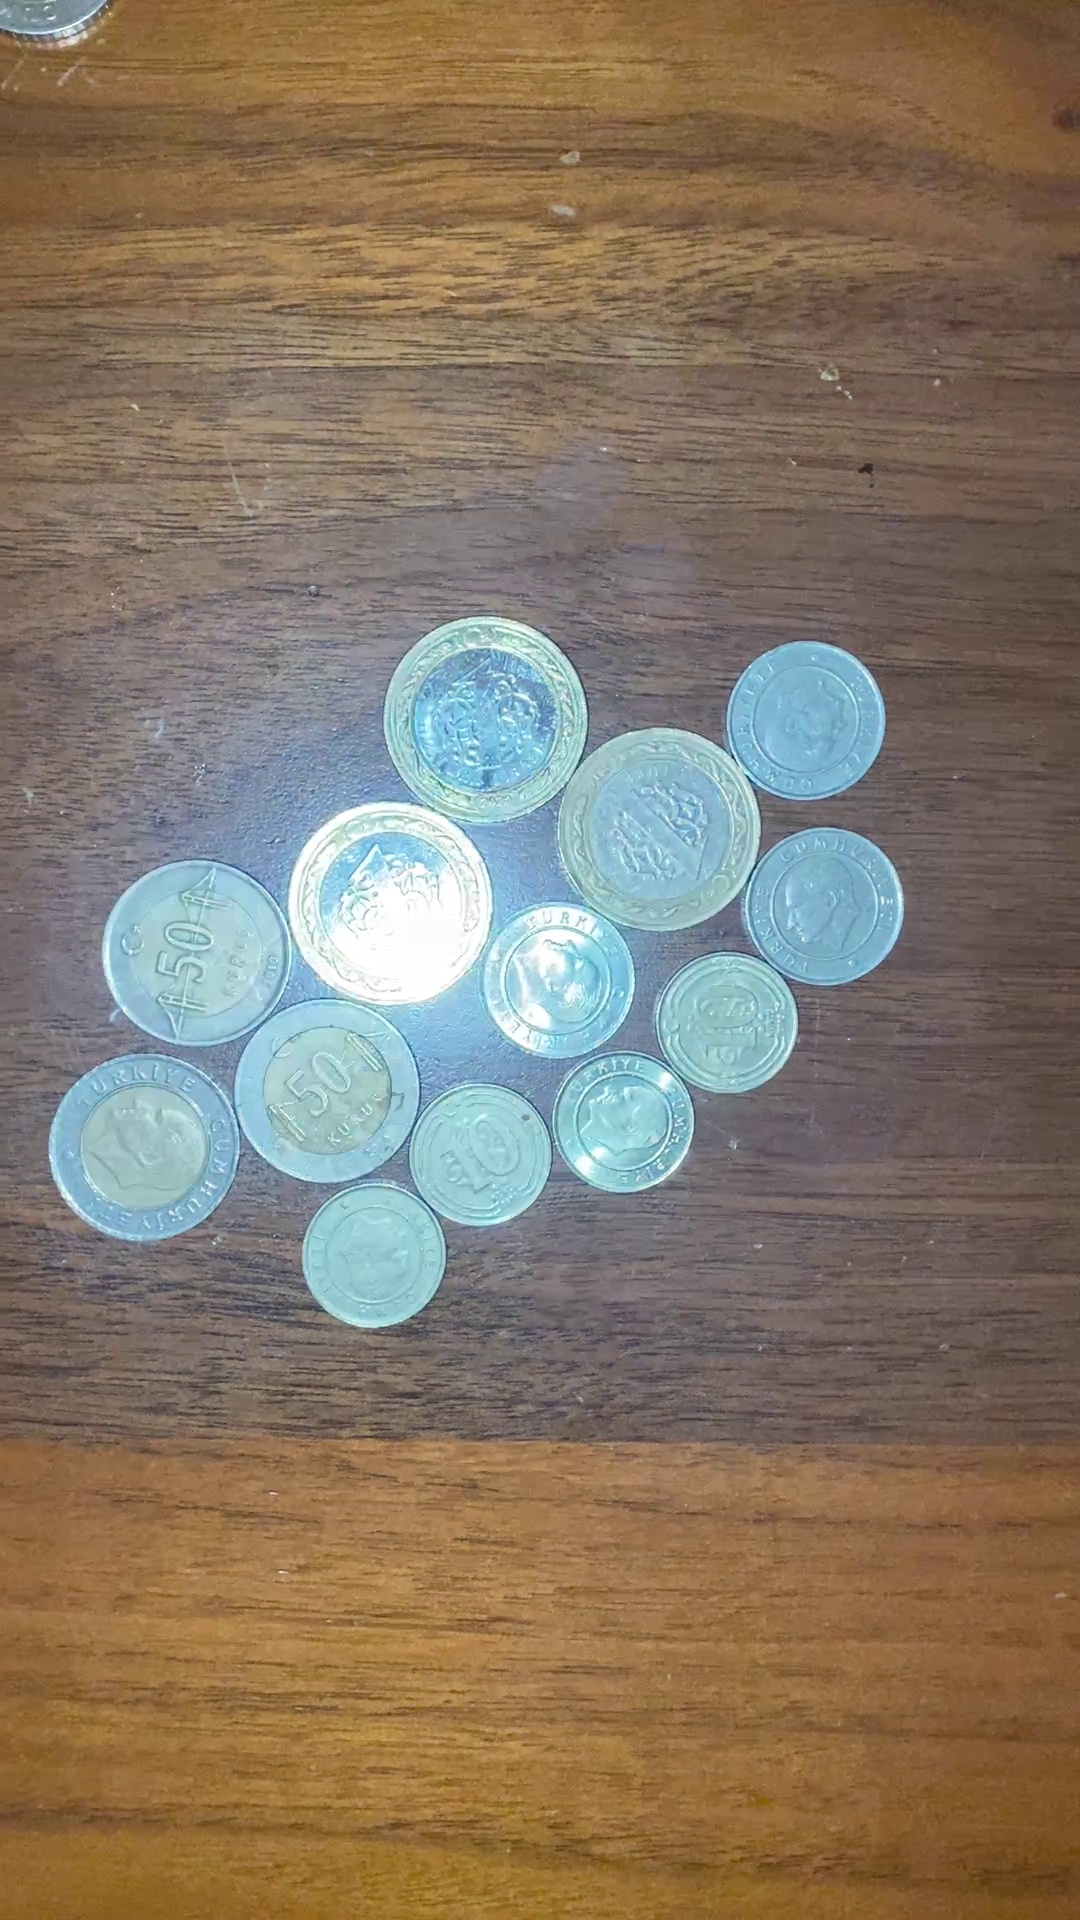10_kr: (407, 1076, 553, 1232), (653, 948, 799, 1100)
1_tl: (556, 723, 761, 942), (382, 612, 587, 824), (287, 802, 493, 1002)
25_kr: (727, 638, 887, 802)
50_kr: (41, 1054, 235, 1251), (98, 860, 289, 1044), (235, 1002, 415, 1178)
